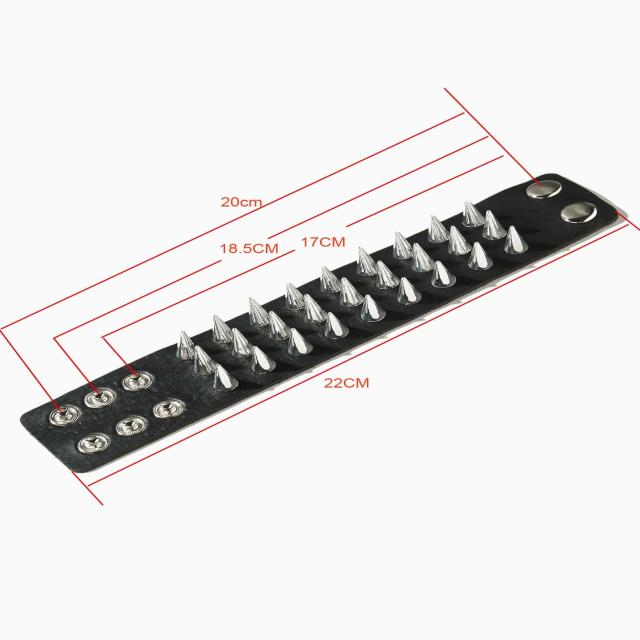bracelet: (16, 59, 640, 545)
